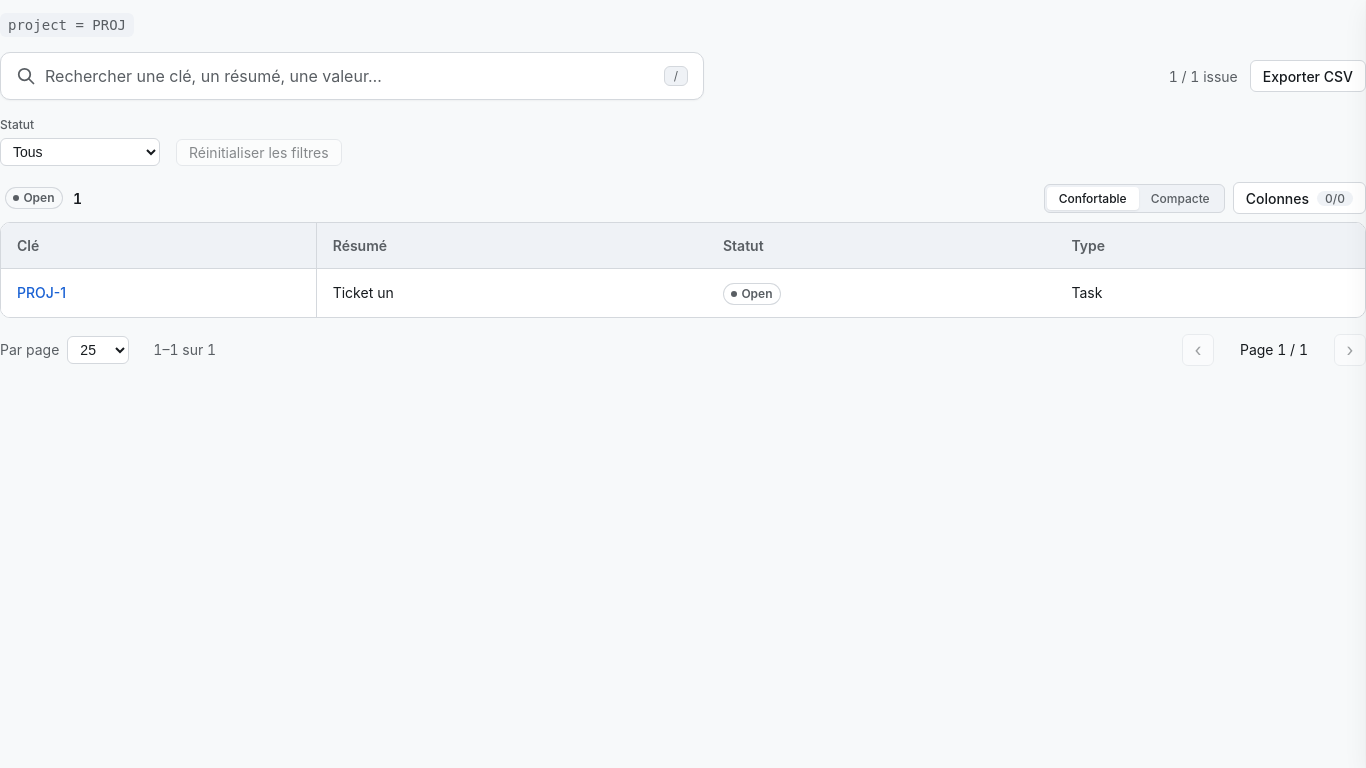
Scenario: IssueList › opens the detail drawer with its fields when clicking an issue key
Click the button "PROJ-1" at [42, 293], box x1=17 y1=282 x2=66 y2=303
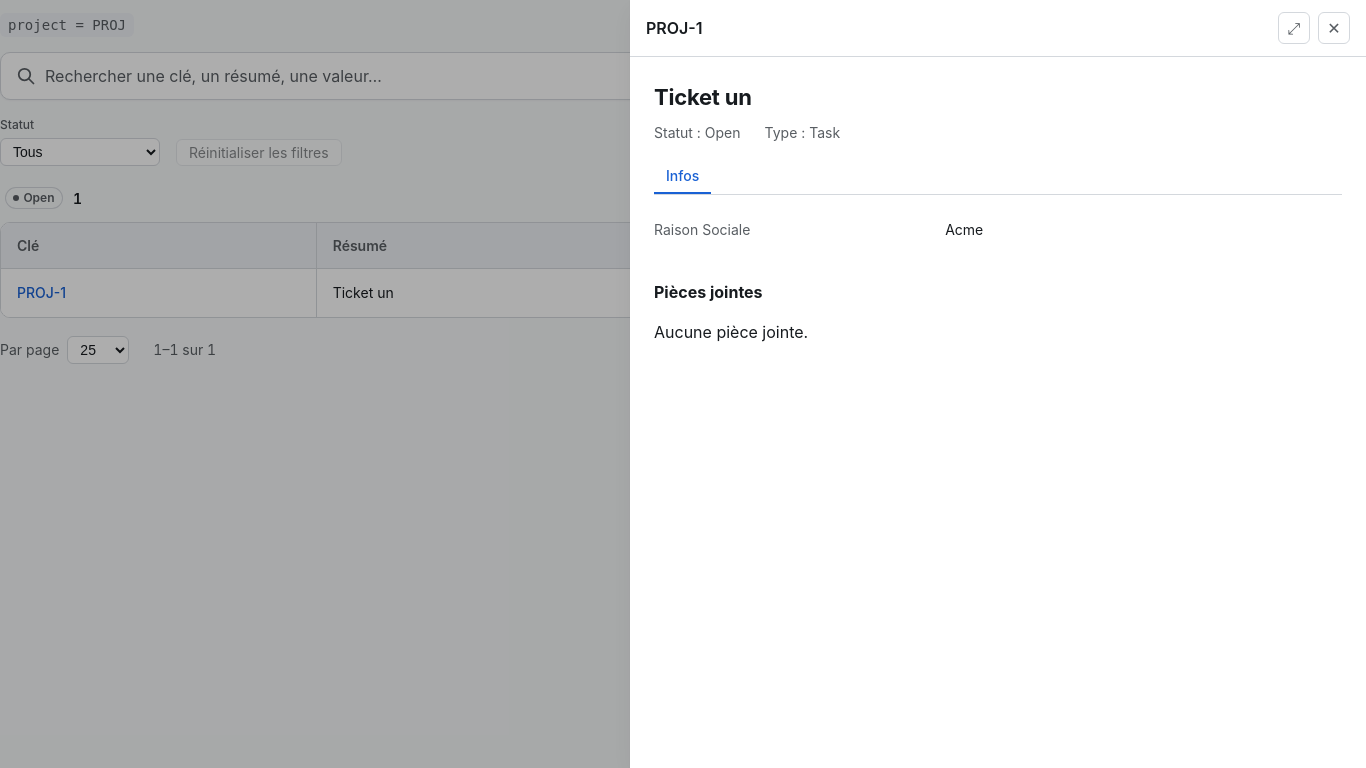
Check: the heading "Ticket un" is shown, box x1=654 y1=84 x2=752 y2=110
Check: the text "Raison Sociale" is shown, box x1=654 y1=221 x2=750 y2=238
Check: the text "Acme" is shown, box x1=945 y1=221 x2=983 y2=238
